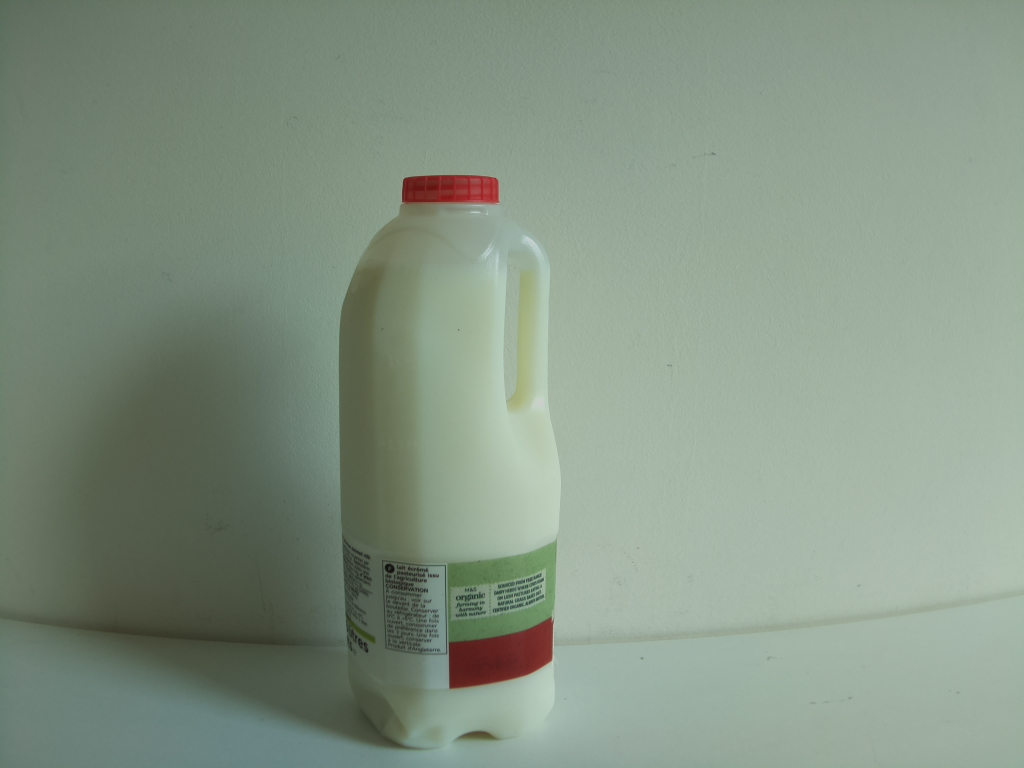milk: (336, 173, 561, 754)
